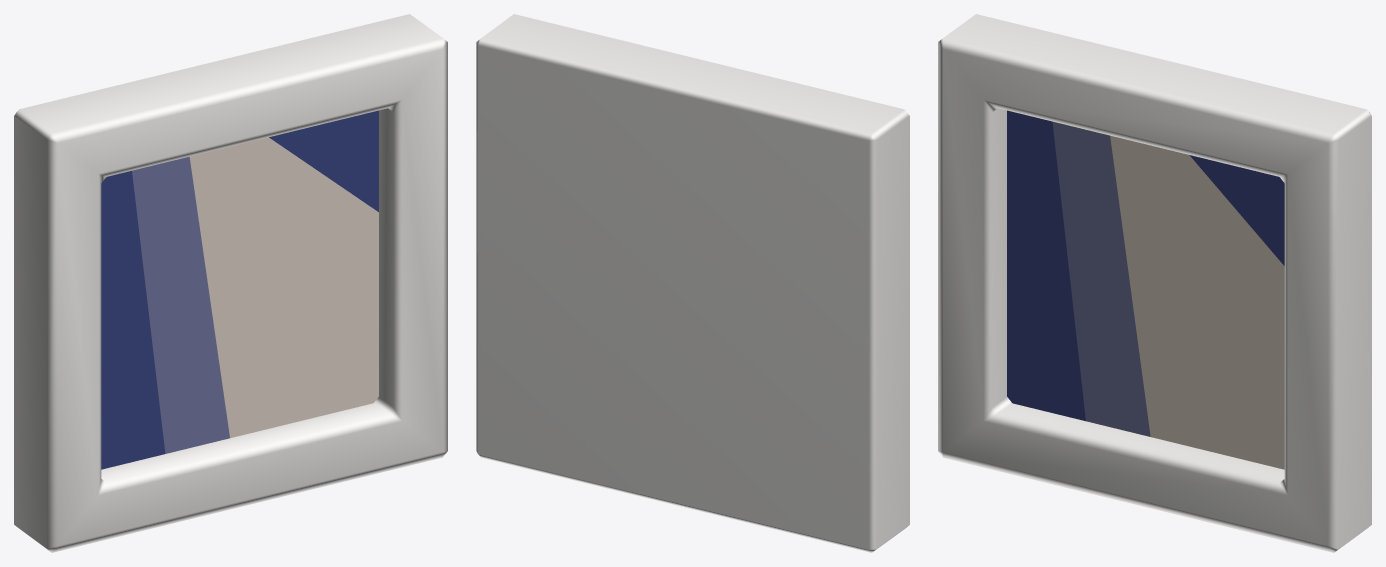
Rendered from Painting_8.glb.
3 renders of one model, left to right at view 1: azimuth 30°, elevation 25°; view 2: azimuth 150°, elevation 25°; view 3: azimuth 330°, elevation 25°, orthographic.
Visible parts, largest first — view 1: Painting_8; view 2: Painting_8; view 3: Painting_8.
Boxes of the visible parts, left/top/right/bottom form: Painting_8: left=14, top=14, right=447, bottom=552; Painting_8: left=476, top=14, right=909, bottom=552; Painting_8: left=938, top=14, right=1371, bottom=552.
Size of the model in its own units: 0.7892 by 0.7892 by 0.1322.
Materials: 1 (1 with a texture image).
